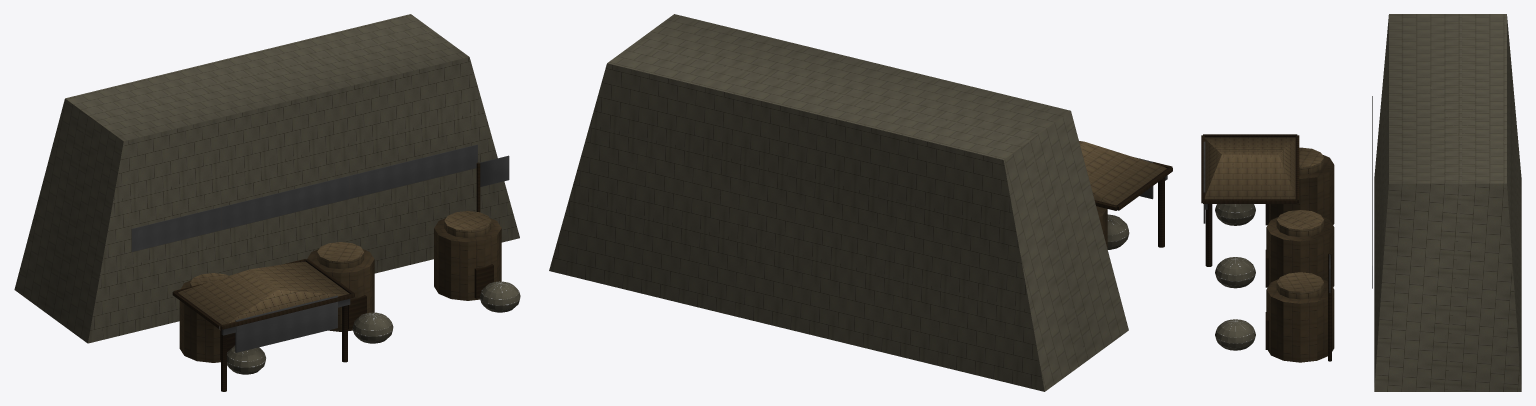
File: copper_mine-israelite.glb
The picture shows the model from 3 angles, left to right: view 1: azimuth 30°, elevation 25°; view 2: azimuth 150°, elevation 25°; view 3: azimuth 270°, elevation 25°; orthographic projection. The views are drawn at different scales.
Parts seen in each view (by area): view 1: LOD0; view 2: LOD0; view 3: LOD0.
Boxes of the visible parts, <box> form: LOD0: <box>14,14,520,391</box>; LOD0: <box>549,14,1172,391</box>; LOD0: <box>1201,14,1521,391</box>.
Size of what is drawn, in the model's own units: 1.7 by 0.7 by 1.09.
2 materials, 2 textured.
